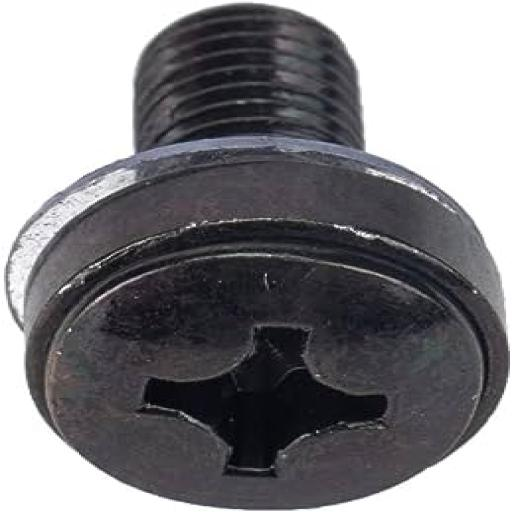Phillips: (42, 248, 476, 510)
